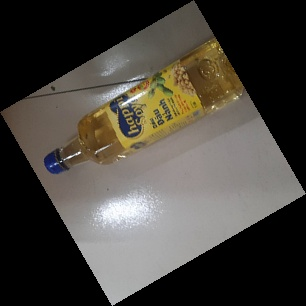Happy Soya: (43, 35, 246, 173)
